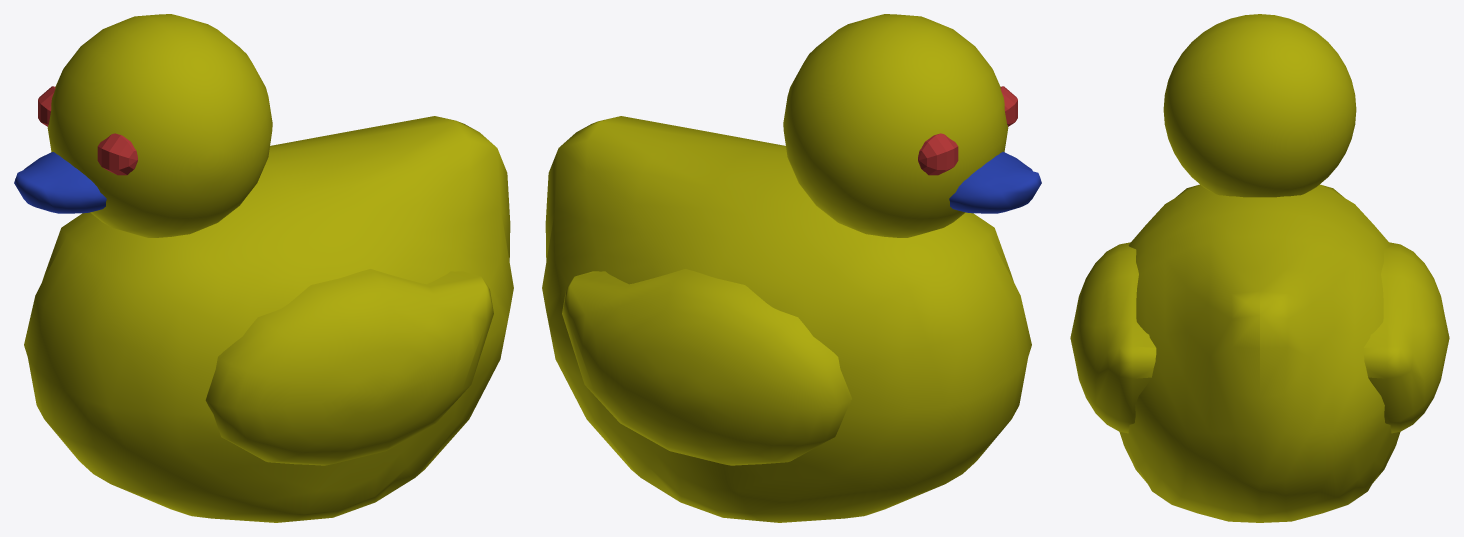
The model's file is duck macguff.fbx.
3 views of the same model, side by side, from view 1: azimuth 30°, elevation 25°; view 2: azimuth 150°, elevation 25°; view 3: azimuth 270°, elevation 25° (orthographic). The views are drawn at different scales.
Parts seen in each view (by area): view 1: duck_macguff; view 2: duck_macguff; view 3: duck_macguff.
Boxes of the visible parts, bbox=[...] form: duck_macguff: bbox=[14, 14, 513, 522]; duck_macguff: bbox=[542, 14, 1041, 522]; duck_macguff: bbox=[1070, 14, 1449, 522].
Bounding box in the file's own units: 23.24 × 22.31 × 18.45.
